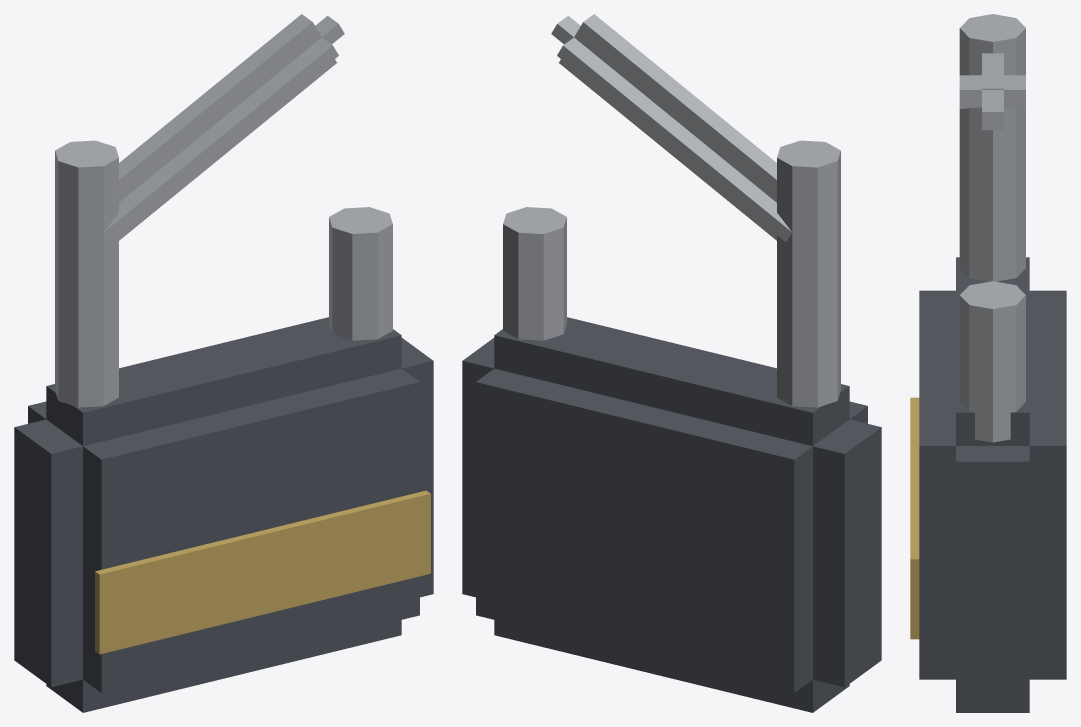
File: item_padlock_open_hand.glb
3 views of the same model, side by side, from view 1: azimuth 30°, elevation 25°; view 2: azimuth 150°, elevation 25°; view 3: azimuth 270°, elevation 25° (orthographic).
Visible parts, largest first — view 1: padlock_mesh; view 2: padlock_mesh; view 3: padlock_mesh.
Boxes of the visible parts, x1=… form: padlock_mesh: x1=14, y1=14, x2=433, y2=712; padlock_mesh: x1=462, y1=14, x2=881, y2=712; padlock_mesh: x1=910, y1=14, x2=1066, y2=712.
Bounding box in the file's own units: 0.06 × 0.0933 × 0.0212.
